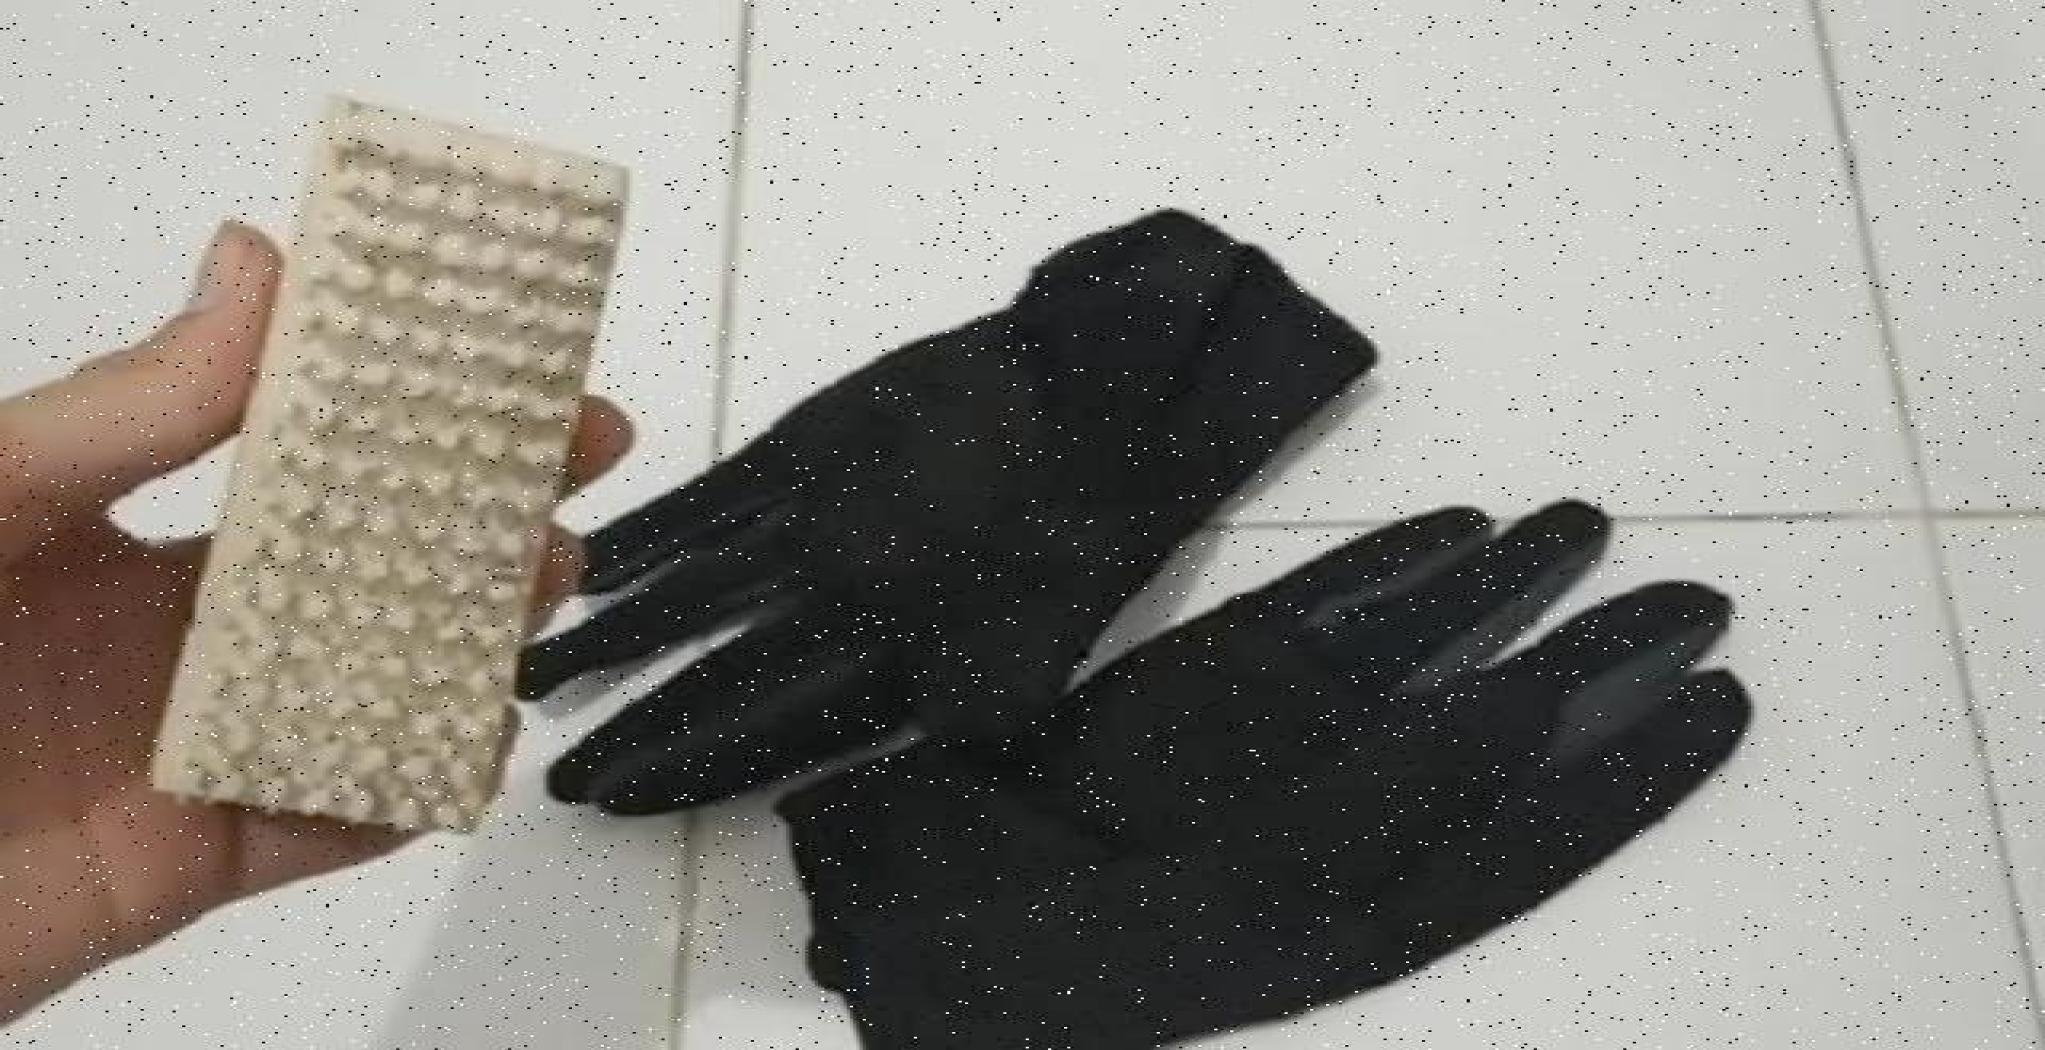not-gloved: (29, 175, 602, 988)
